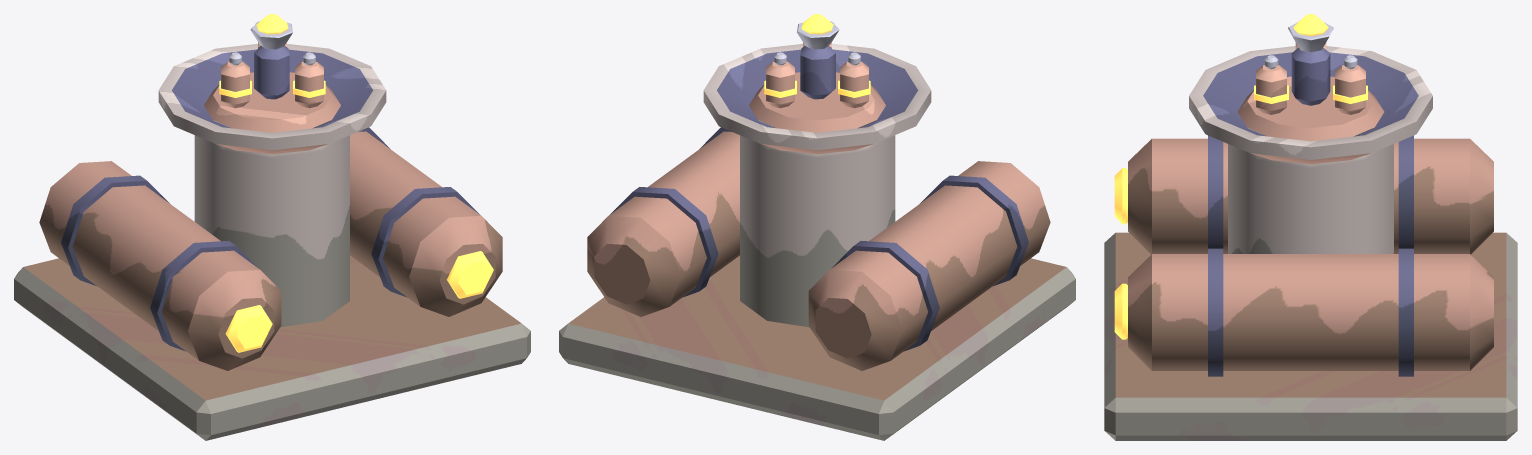
Rendered from R4X_BurnTrapDeployer_LOD1.glb.
The picture shows the model from 3 angles, left to right: view 1: azimuth 30°, elevation 25°; view 2: azimuth 150°, elevation 25°; view 3: azimuth 270°, elevation 25°; orthographic projection. The views are drawn at different scales.
Parts seen in each view (by area): view 1: R4X_BurnTrapDeployer_LOD1; view 2: R4X_BurnTrapDeployer_LOD1; view 3: R4X_BurnTrapDeployer_LOD1.
Boxes of the visible parts, x1=… form: R4X_BurnTrapDeployer_LOD1: x1=14, y1=14, x2=530, y2=440; R4X_BurnTrapDeployer_LOD1: x1=559, y1=14, x2=1075, y2=440; R4X_BurnTrapDeployer_LOD1: x1=1104, y1=14, x2=1517, y2=440.
Size of the model in its own units: 0.52 by 0.476 by 0.52.
Materials: 5 (4 with a texture image).
